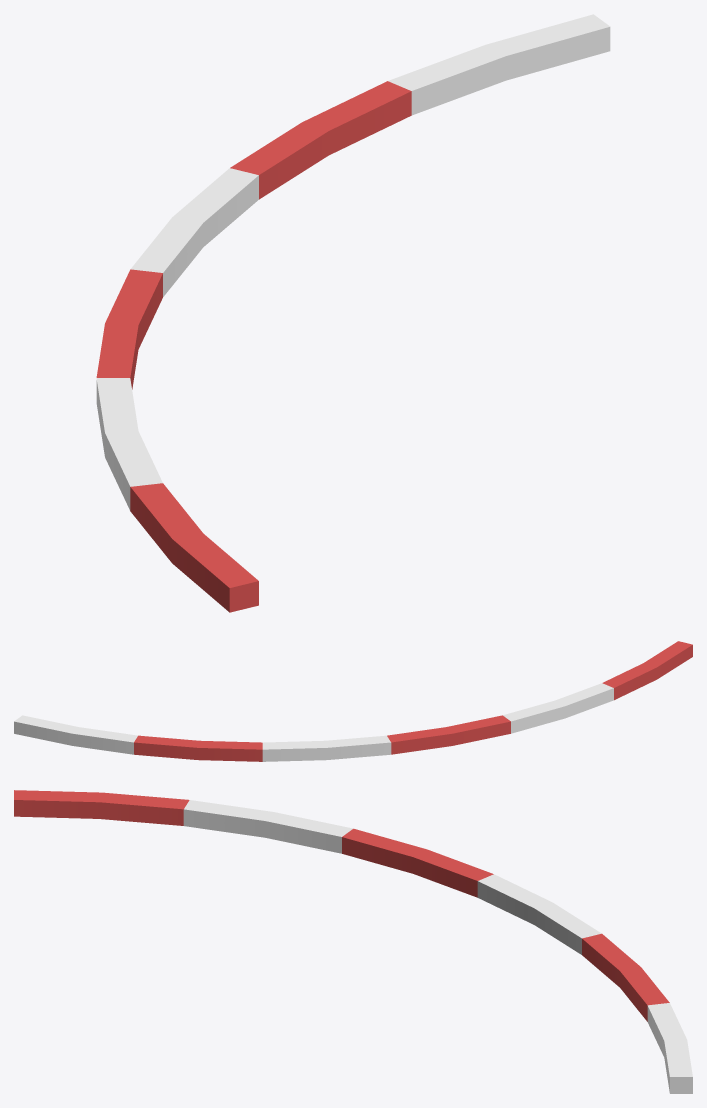
Rendered from roadCornerLargerWallInner.glb.
The picture shows the model from 3 angles, top to bottom: view 1: azimuth 30°, elevation 25°; view 2: azimuth 150°, elevation 25°; view 3: azimuth 270°, elevation 25°; orthographic projection. The views are drawn at different scales.
Parts seen in each view (by area): view 1: roadCornerLargerWallInner(Clone); view 2: roadCornerLargerWallInner(Clone); view 3: roadCornerLargerWallInner(Clone).
Part boxes in pixels (x1=…): roadCornerLargerWallInner(Clone): x1=96, y1=14, x2=610, y2=612; roadCornerLargerWallInner(Clone): x1=14, y1=641, x2=692, y2=761; roadCornerLargerWallInner(Clone): x1=14, y1=790, x2=692, y2=1093.
Bounding box in the file's own units: 1.47 × 0.04 × 1.47.
